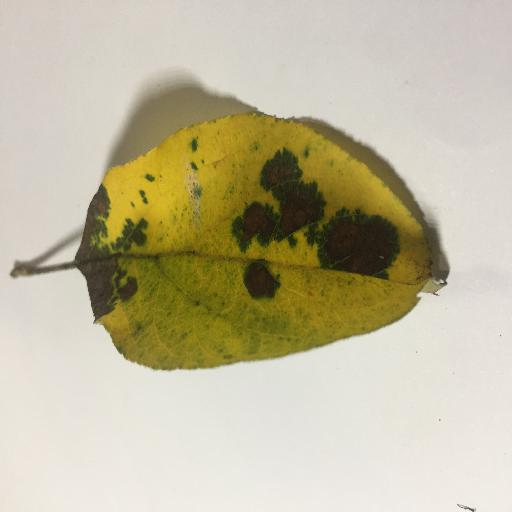Brown_Spot: (326, 222, 401, 271), (269, 170, 308, 225), (86, 253, 118, 298), (75, 199, 98, 256), (244, 264, 281, 298), (238, 207, 267, 243)
